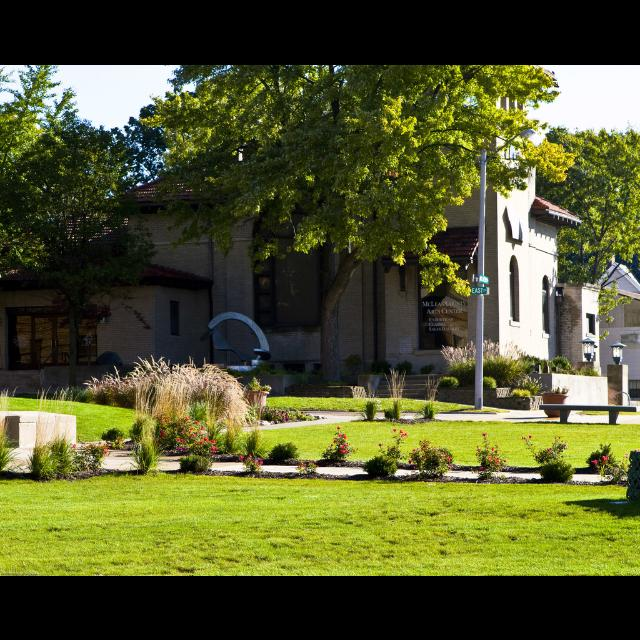Flower: (156, 417, 214, 451), (329, 427, 349, 453), (392, 426, 406, 436), (602, 453, 610, 462)
